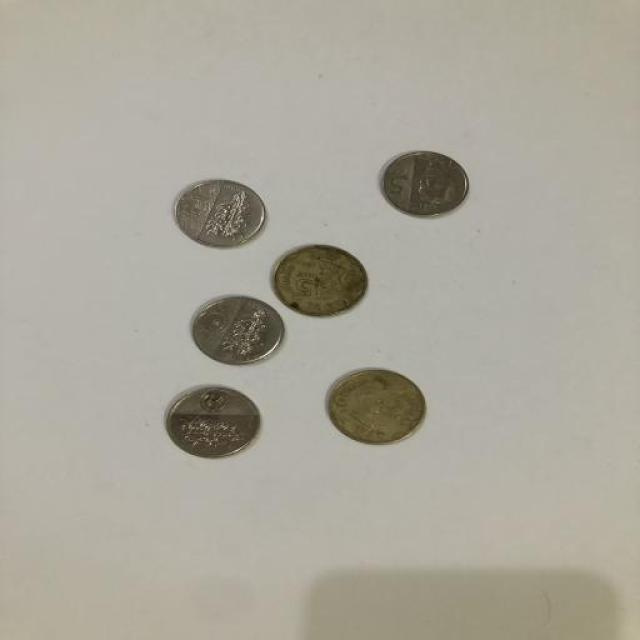5 peso: (164, 382, 264, 461), (186, 294, 288, 366), (172, 176, 268, 251), (378, 144, 470, 220)
5 peso-old: (323, 365, 428, 448), (270, 240, 371, 318)
